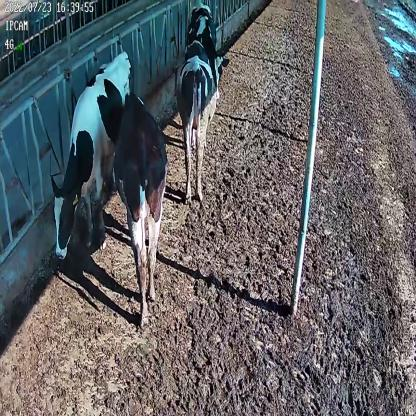cow: (50, 46, 130, 262), (112, 93, 168, 319), (176, 32, 217, 202), (188, 3, 230, 83)
